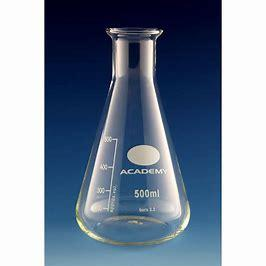Titrarion: (62, 32, 194, 247)
